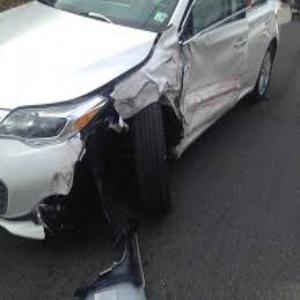bumper: (20, 165, 85, 241)
door: (178, 35, 261, 122)
